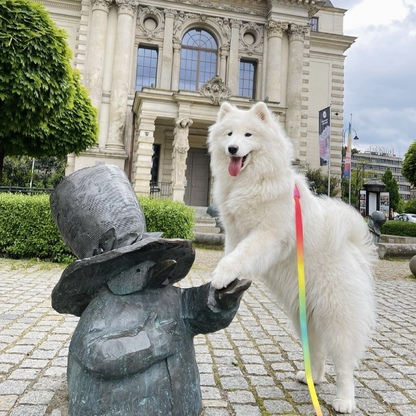samoyed: (198, 94, 389, 416)
